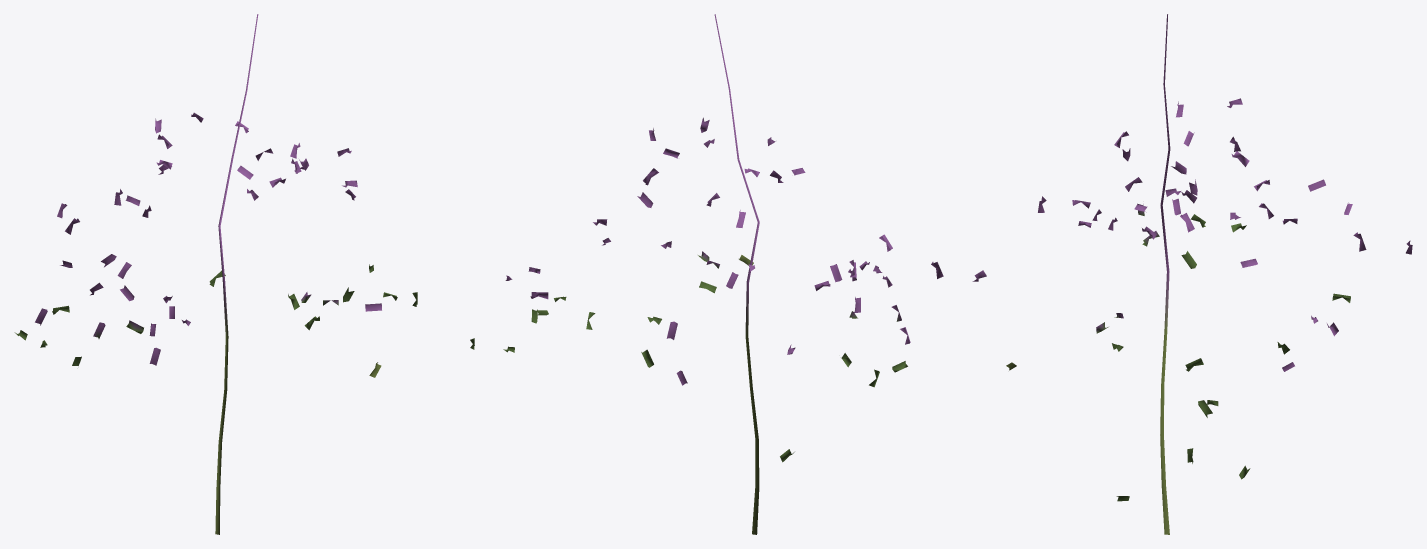
The model's file is capim_florido_muito_longe.glb.
3 renders of one model, left to right at view 1: azimuth 30°, elevation 25°; view 2: azimuth 150°, elevation 25°; view 3: azimuth 270°, elevation 25°, orthographic. The views are drawn at different scales.
Parts seen in each view (by area): view 1: capim_florido_muito_longe; view 2: capim_florido_muito_longe; view 3: capim_florido_muito_longe.
Part boxes in pixels (left/top/right/bottom): capim_florido_muito_longe: left=14, top=14, right=474, bottom=534; capim_florido_muito_longe: left=503, top=14, right=943, bottom=534; capim_florido_muito_longe: left=972, top=14, right=1412, bottom=534.
Bounding box in the file's own units: 0.7776 × 0.9323 × 0.688.
